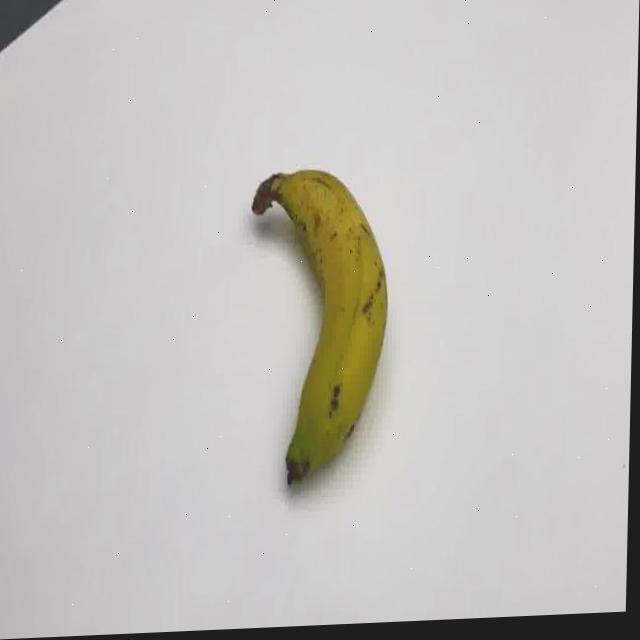banana: (243, 160, 391, 491)
